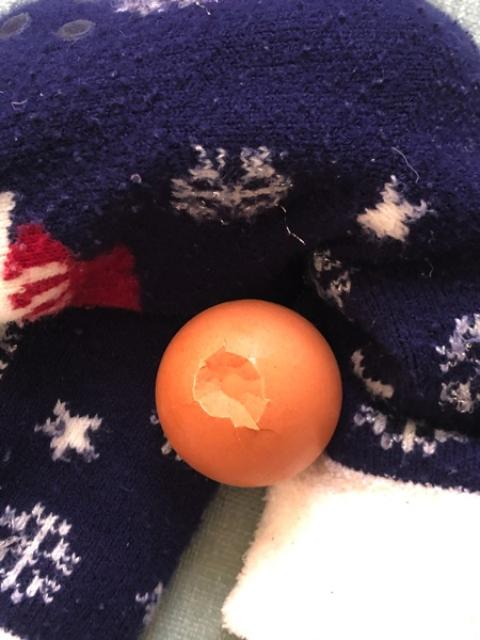Roto: (154, 297, 343, 489)
